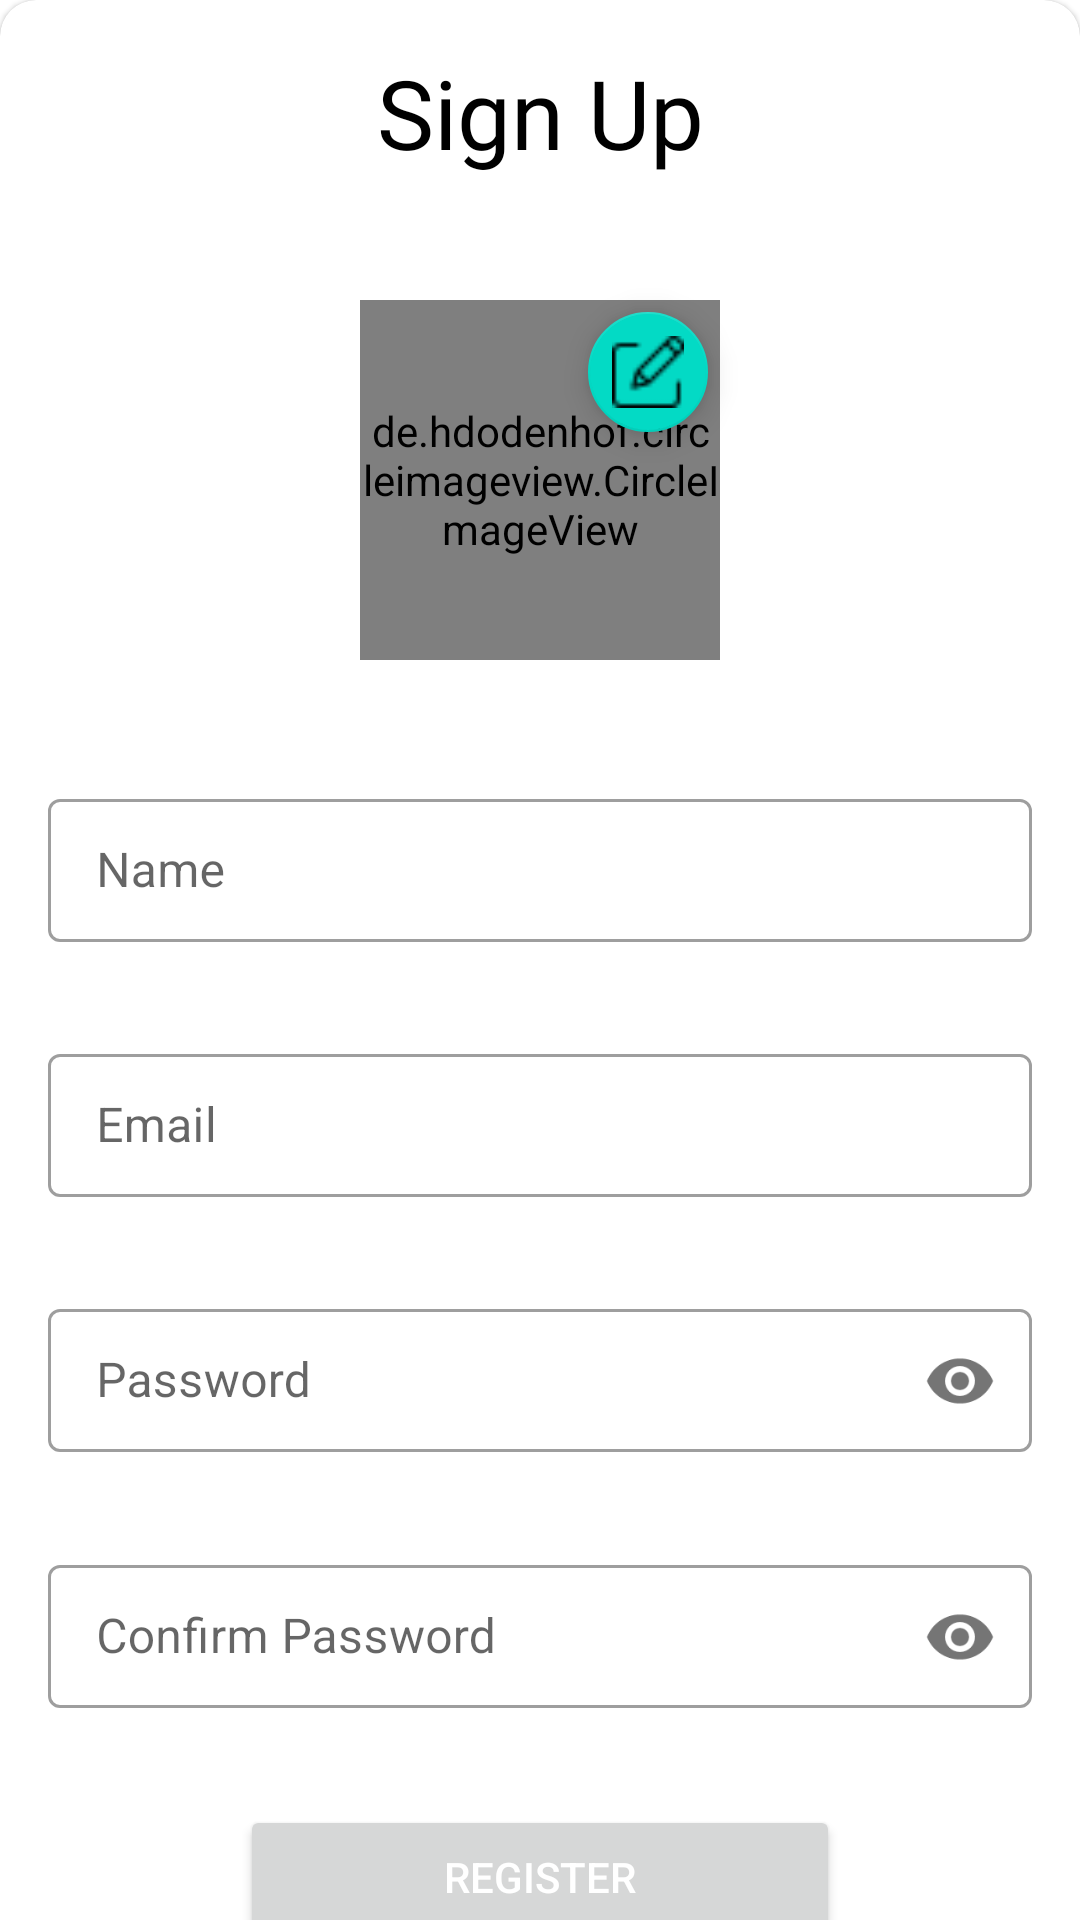

Icons on this 1080*1920 Android screen, each with the point to tap as [x,y]:
editimage: [648,372]
